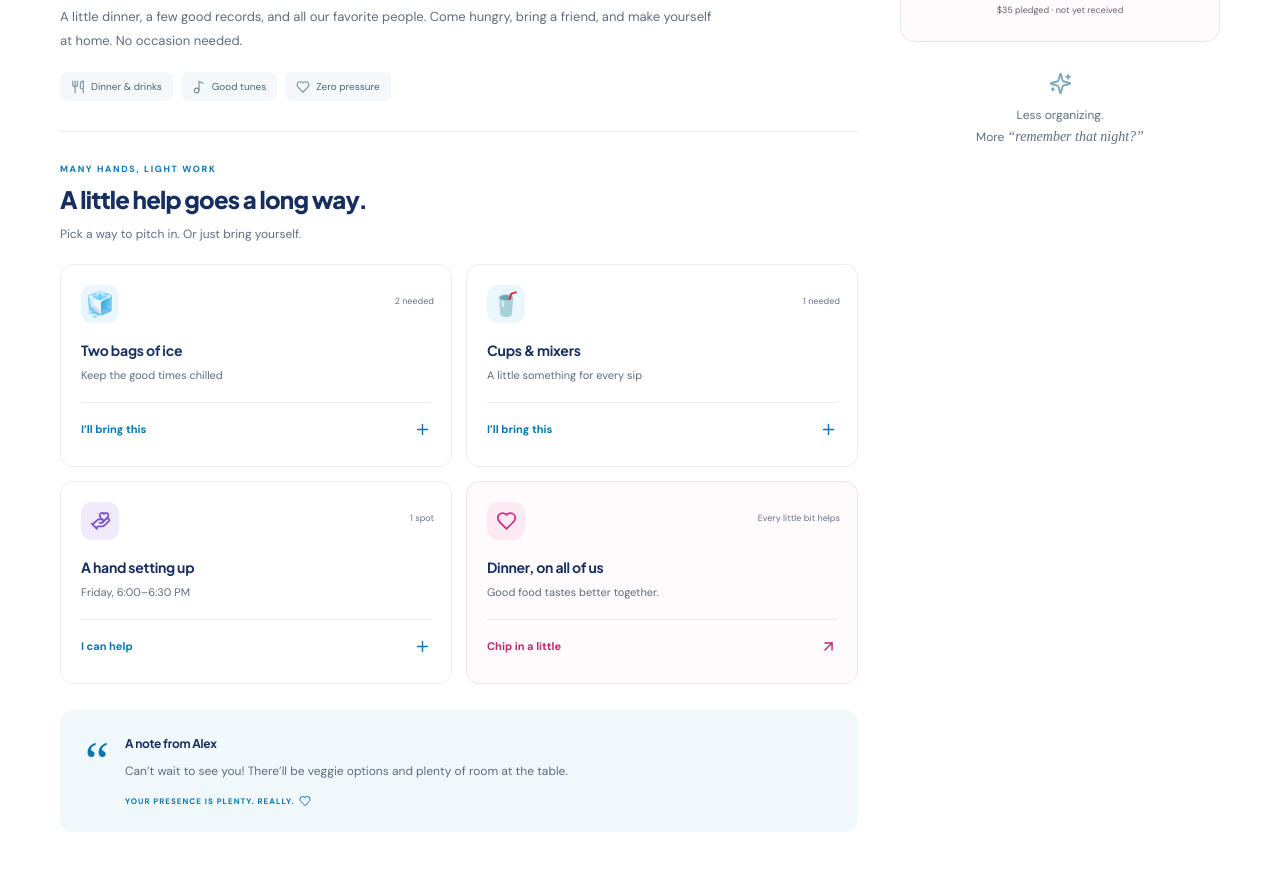
invitation participation › gates a supply claim behind RSVP without silently creating a claim
(page scrolled)
Step 1. Click the button "I’ll bring this" below "Keep the good times chilled" → x=114, y=429, box [81, 402, 431, 446]
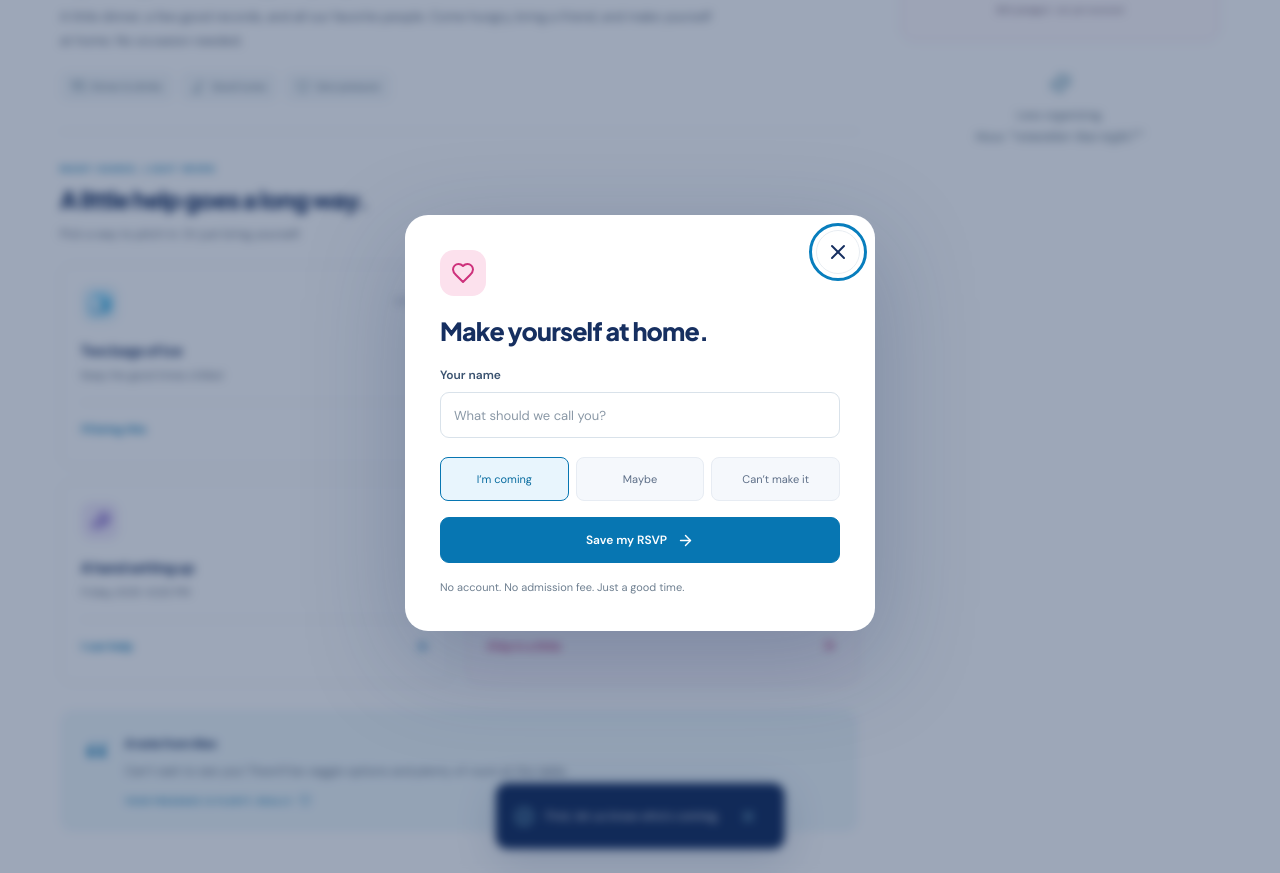
Expected: the dialog named "Your RSVP" is shown, [405, 214, 875, 631]
Expected: the text "No account. No admission fee. Just a good time." is shown, [440, 580, 684, 594]
